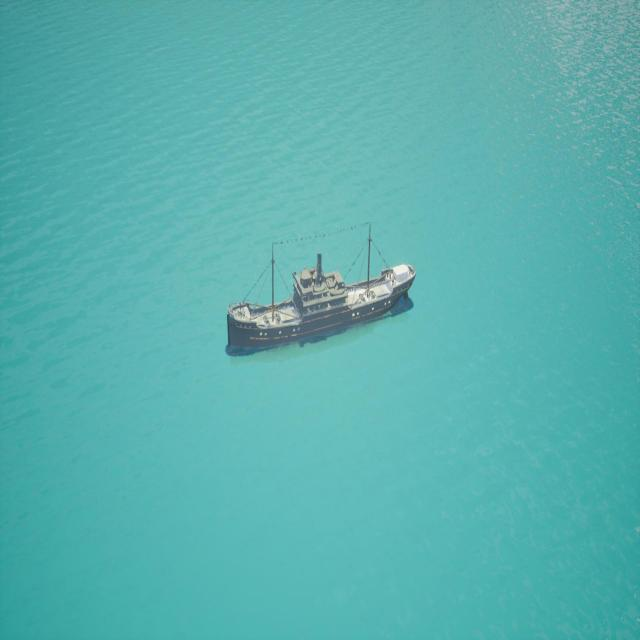fishing ship: (228, 234, 417, 356)
